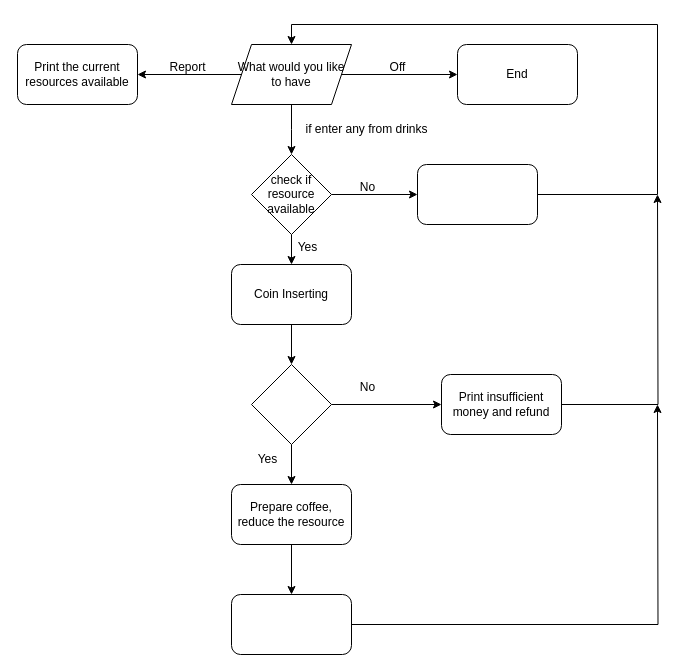
This 684x672 diagram has some shape labels left out. The box of each missing label's shape, as (x1, y1, x2, y2) in pixels:
check if the sufficient: (250, 364, 332, 444)
Enjoy you coffee: (230, 594, 352, 654)
Show resource not available: (416, 164, 538, 224)
